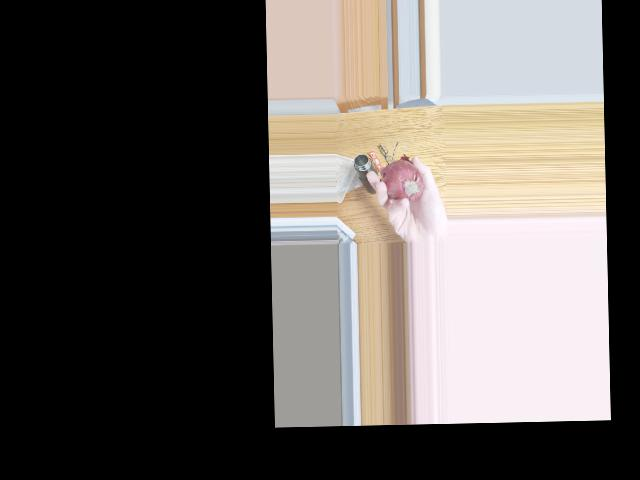onion: (384, 164, 424, 202)
